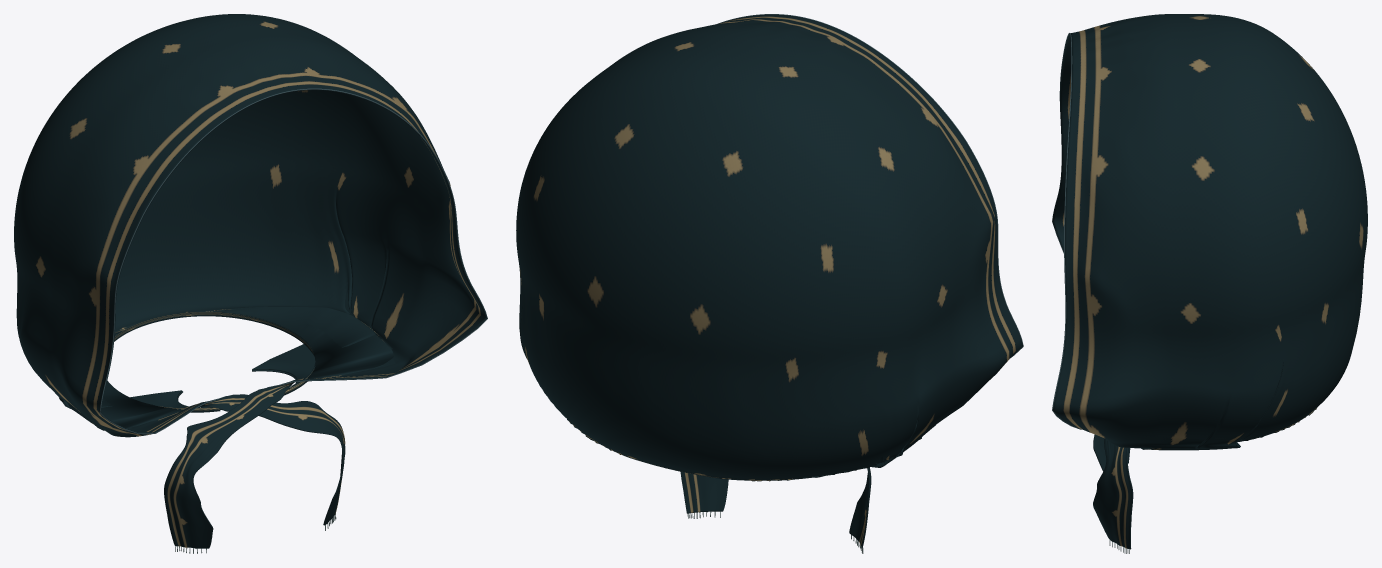
Rendered from Feminine-curls-bandeau-pashmina250-headgear.glb.
3 renders of one model, left to right at view 1: azimuth 30°, elevation 25°; view 2: azimuth 150°, elevation 25°; view 3: azimuth 270°, elevation 25°, orthographic. The views are drawn at different scales.
Visible parts, largest first — view 1: 226 headgear / Headwear / continuous woven pashmina239, 226 headgear / Headwear / face edge239; view 2: 226 headgear / Headwear / continuous woven pashmina239, 226 headgear / Headwear / face edge239; view 3: 226 headgear / Headwear / continuous woven pashmina239, 226 headgear / Headwear / face edge239.
Boxes of the visible parts, bbox=[...] form: 226 headgear / Headwear / continuous woven pashmina239: bbox=[14, 14, 486, 548]; 226 headgear / Headwear / face edge239: bbox=[99, 88, 487, 434]; 226 headgear / Headwear / continuous woven pashmina239: bbox=[516, 14, 1022, 547]; 226 headgear / Headwear / face edge239: bbox=[717, 14, 1023, 358]; 226 headgear / Headwear / continuous woven pashmina239: bbox=[1052, 14, 1367, 549]; 226 headgear / Headwear / face edge239: bbox=[1052, 33, 1081, 429].
Bounding box in the file's own units: 1.21 × 1.4 × 0.835.
Materials: 3 (1 with a texture image).
